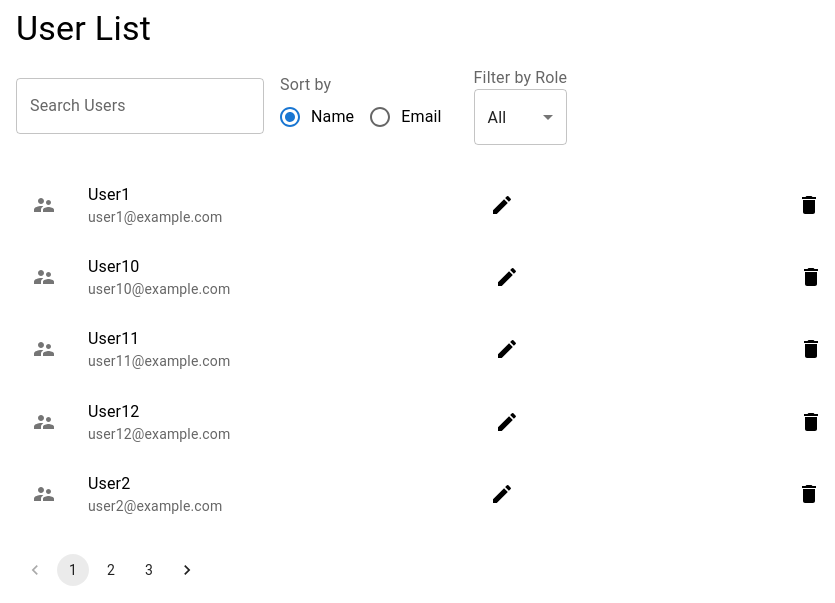
UserEmployeeListMittel Component › should paginate users
Check: the text "User1" is shown, box [88,186,130,204]
Check: the text "User6" is not shown
Click the button named "next" at (187, 570), box [171,554,203,586]
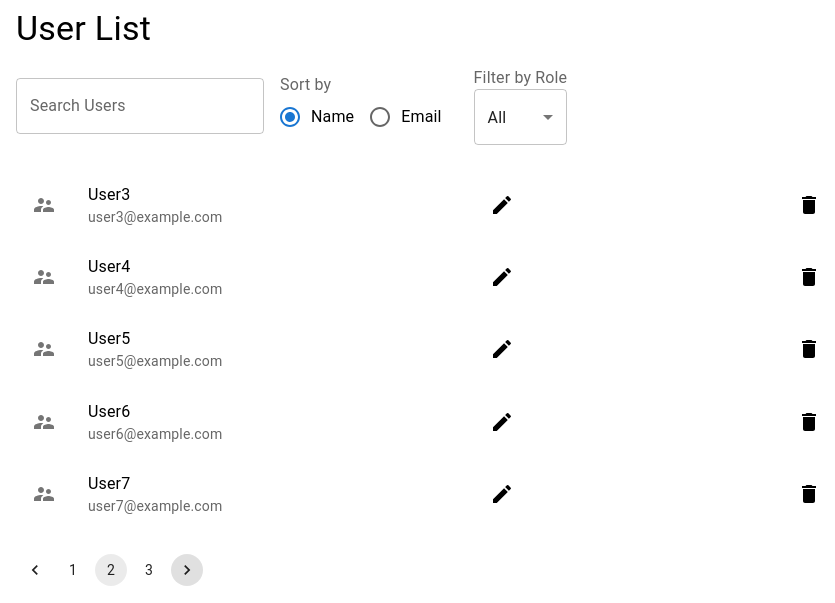
Check: the text "User1" is gone
Check: the text "User6" is shown, box [88,402,130,420]
